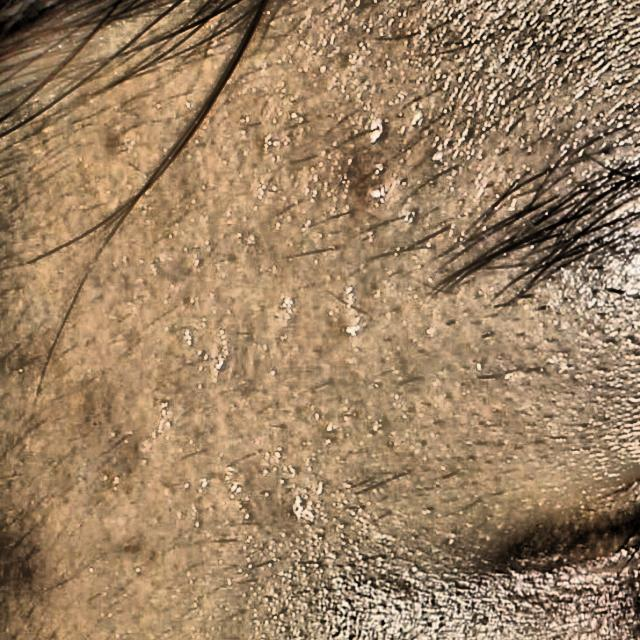whiteheads: (268, 290, 309, 332), (355, 174, 394, 218), (333, 314, 369, 350), (280, 490, 320, 522), (252, 125, 286, 162), (361, 113, 390, 155), (174, 322, 198, 351)
